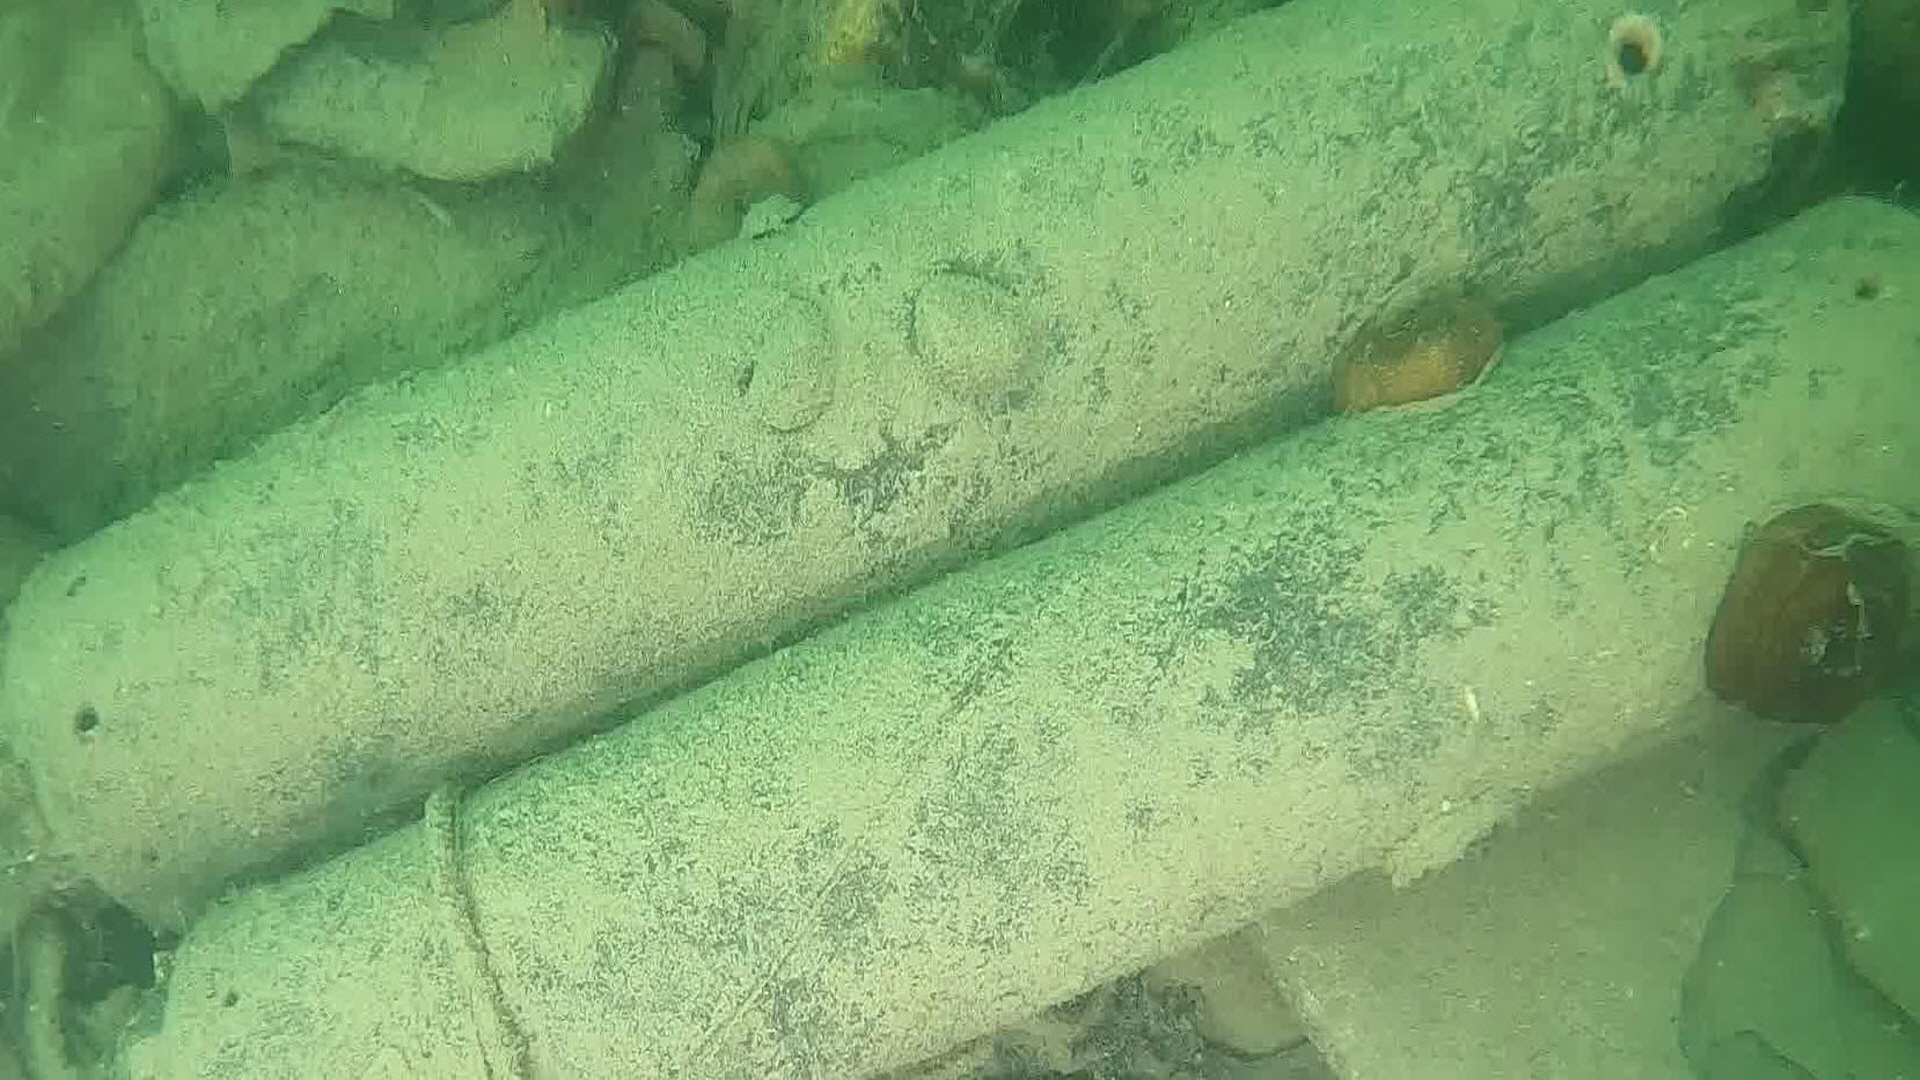eel fish trap: (0, 0, 1854, 934), (117, 193, 1920, 1080)
rope: (407, 778, 543, 1071)
